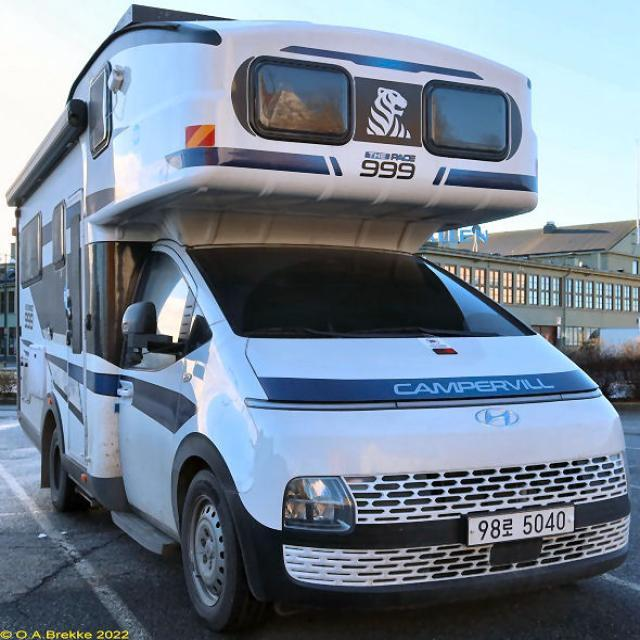car: (456, 492, 591, 551)
